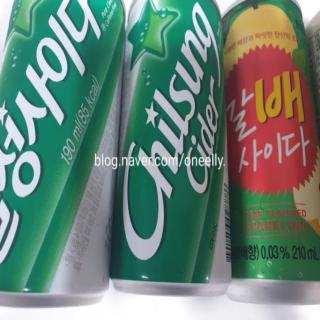cocacola: (0, 1, 125, 309), (110, 0, 232, 297)
